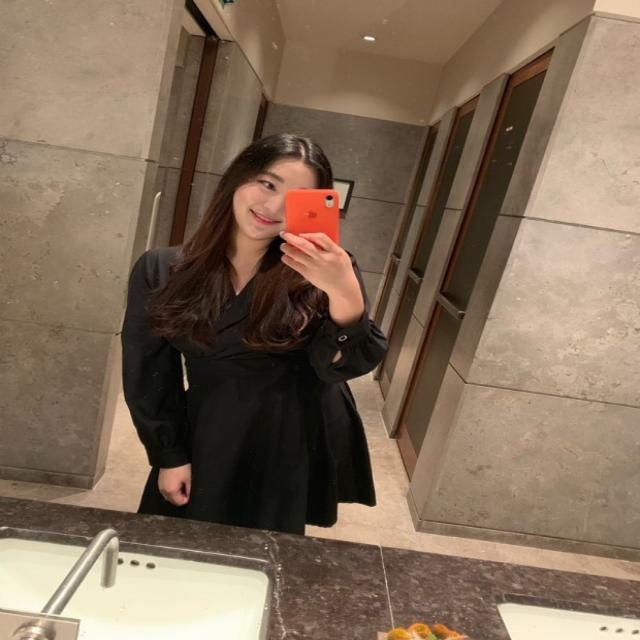phone: (285, 189, 339, 268)
